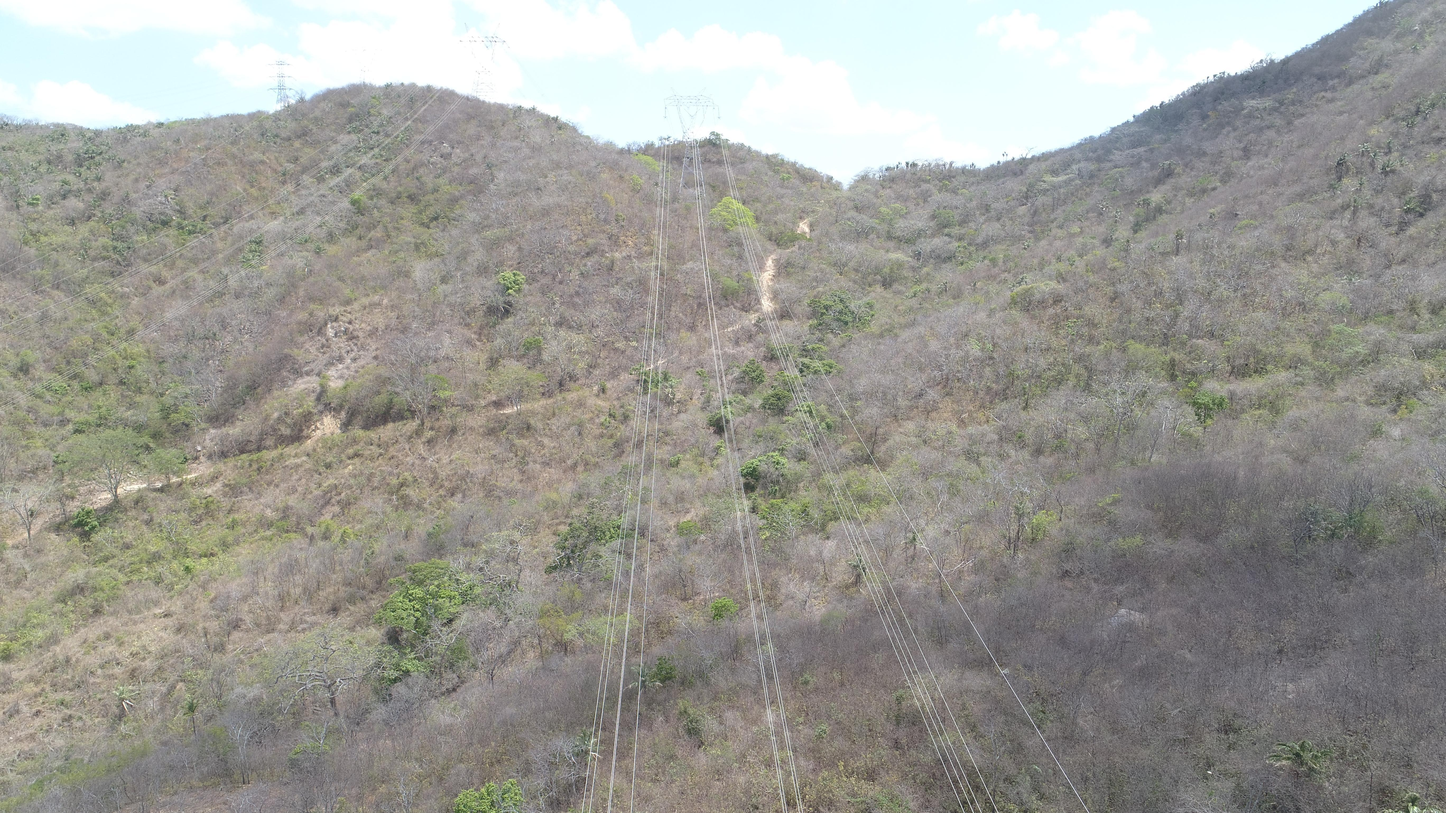power_tower: (663, 85, 718, 200), (455, 24, 511, 100), (268, 58, 294, 115)
